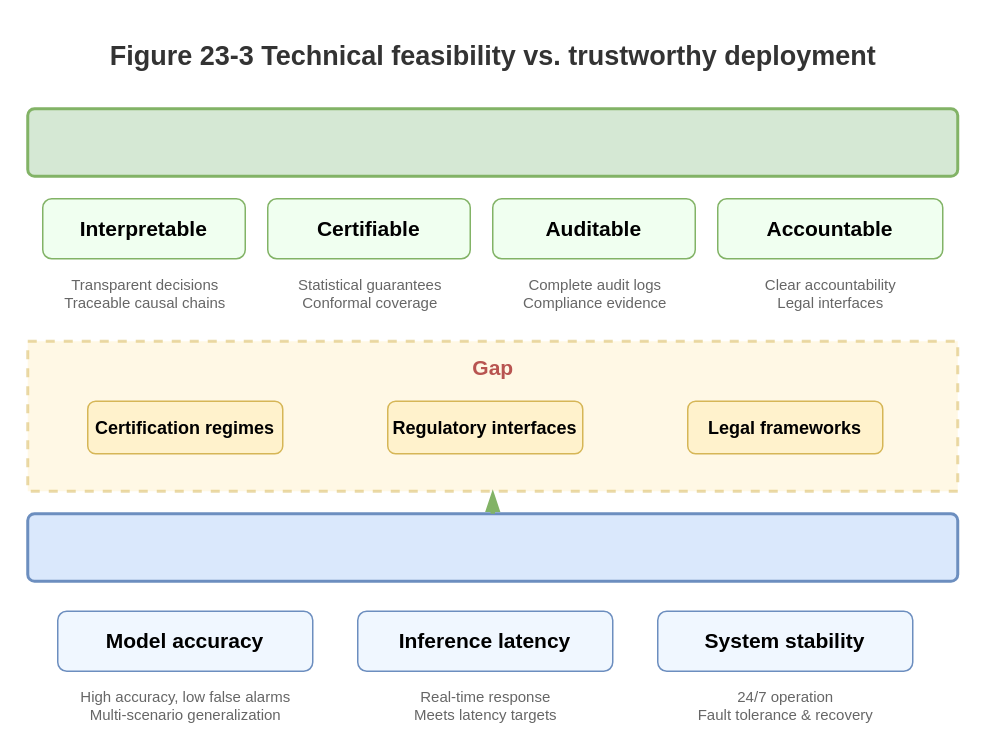
Some shapes in this 984 by 756 pixel diagram are drawn without their labels. The shapes that lost their labels are listed below. From the top down, each one's centre as x and y in pixels, then its label:
At point 492,141: "Trustworthy deployment: social acceptability".
At point 492,547: "Technical feasibility: can it run?".
